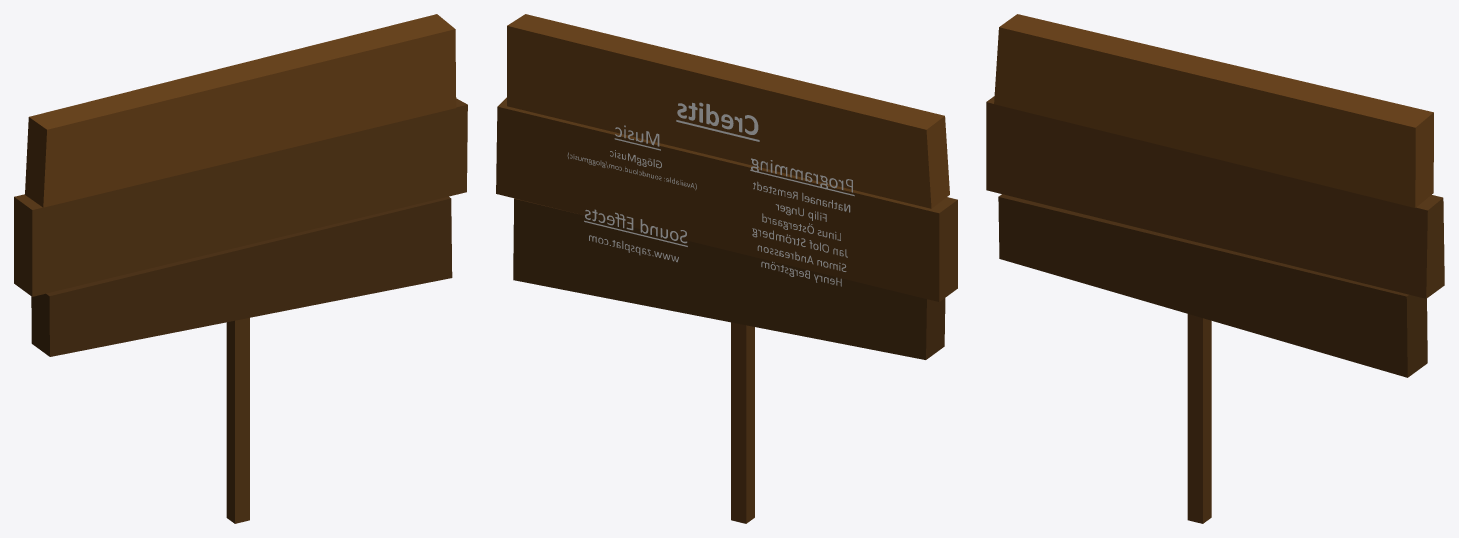
Rendered from CreditsSign2.obj.
3 views of the same model, side by side, from view 1: azimuth 30°, elevation 25°; view 2: azimuth 150°, elevation 25°; view 3: azimuth 330°, elevation 25° (orthographic). The views are drawn at different scales.
Visible parts, largest first — view 1: Cube, Cube.005, Cube.006, Cube.001; view 2: Cube, Cube.005, Cube.006, Plane.002, Cube.001; view 3: Cube, Cube.005, Cube.006, Cube.001.
Part boxes in pixels (<box>): Cube: <box>25,14,456,207</box>; Cube.005: <box>14,98,467,296</box>; Cube.006: <box>31,196,452,356</box>; Cube.001: <box>226,318,249,523</box>; Cube: <box>507,14,949,208</box>; Cube.005: <box>496,97,957,301</box>; Cube.006: <box>513,198,945,359</box>; Plane.002: <box>567,102,854,286</box>; Cube.001: <box>731,322,754,523</box>; Cube: <box>994,14,1433,207</box>; Cube.005: <box>986,96,1444,298</box>; Cube.006: <box>998,194,1427,377</box>; Cube.001: <box>1187,314,1211,523</box>.
Size of the model in its own units: 2.22 by 2.15 by 0.2072.
